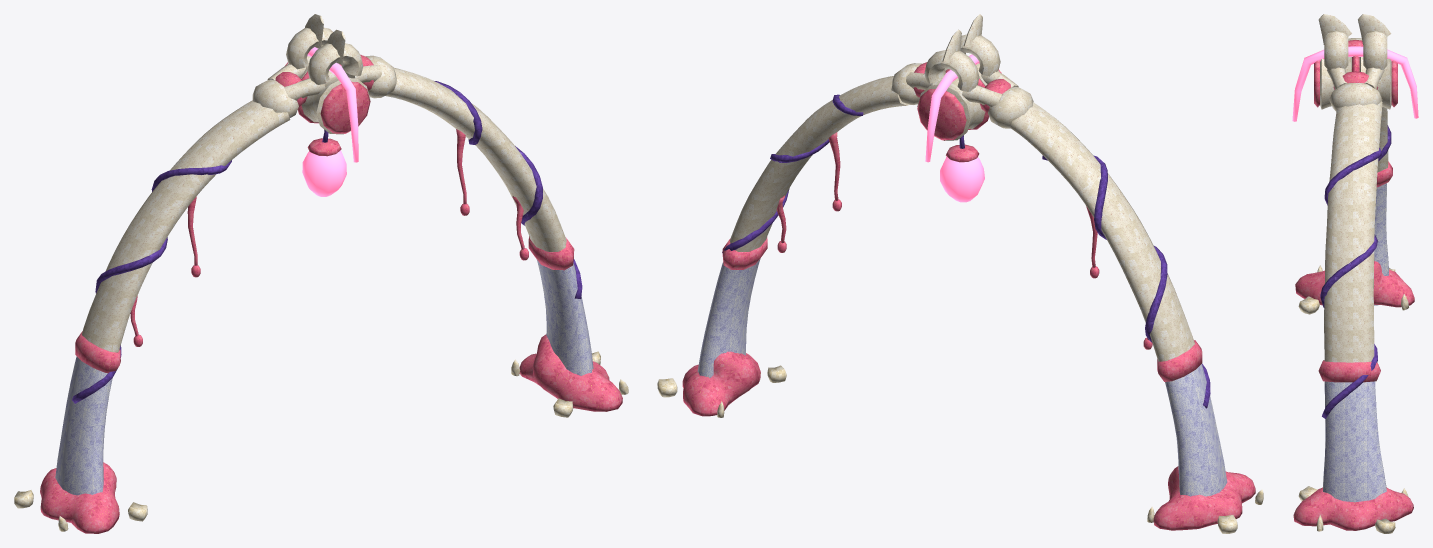
File: s_ribarch.glb
3 renders of one model, left to right at view 1: azimuth 30°, elevation 25°; view 2: azimuth 150°, elevation 25°; view 3: azimuth 270°, elevation 25°, orthographic. The views are drawn at different scales.
Parts seen in each view (by area): view 1: ribarch_gut_bone, ribarch_gut_flesh_pulse, ribarch_ra_cartilage, ribarch_gut_vein_pulse, ribarch_gut_glow_pulse, ribarch_gut_enamel; view 2: ribarch_gut_bone, ribarch_gut_flesh_pulse, ribarch_ra_cartilage, ribarch_gut_vein_pulse, ribarch_gut_glow_pulse, ribarch_gut_enamel; view 3: ribarch_gut_bone, ribarch_gut_flesh_pulse, ribarch_ra_cartilage, ribarch_gut_vein_pulse, ribarch_gut_glow_pulse, ribarch_gut_enamel.
Boxes of the visible parts, box(x1,y1,x2,y2) form: ribarch_gut_bone: box(82, 14, 566, 352); ribarch_gut_flesh_pulse: box(40, 54, 622, 533); ribarch_ra_cartilage: box(55, 259, 593, 495); ribarch_gut_vein_pulse: box(72, 81, 582, 403); ribarch_gut_glow_pulse: box(302, 47, 358, 196); ribarch_gut_enamel: box(14, 351, 628, 531); ribarch_gut_bone: box(730, 14, 1194, 361); ribarch_gut_flesh_pulse: box(682, 62, 1255, 530); ribarch_ra_cartilage: box(697, 258, 1227, 496); ribarch_gut_vein_pulse: box(722, 94, 1210, 408); ribarch_gut_glow_pulse: box(925, 54, 984, 202); ribarch_gut_enamel: box(657, 365, 1263, 533); ribarch_gut_bone: box(1318, 14, 1391, 362); ribarch_gut_flesh_pulse: box(1293, 40, 1414, 530); ribarch_ra_cartilage: box(1323, 183, 1388, 502); ribarch_gut_vein_pulse: box(1320, 125, 1391, 418); ribarch_gut_glow_pulse: box(1292, 46, 1418, 121); ribarch_gut_enamel: box(1298, 265, 1408, 533).
Size of what is drawn, in the model's own units: 17.39 by 12.23 by 3.54.
6 materials, 5 textured.
